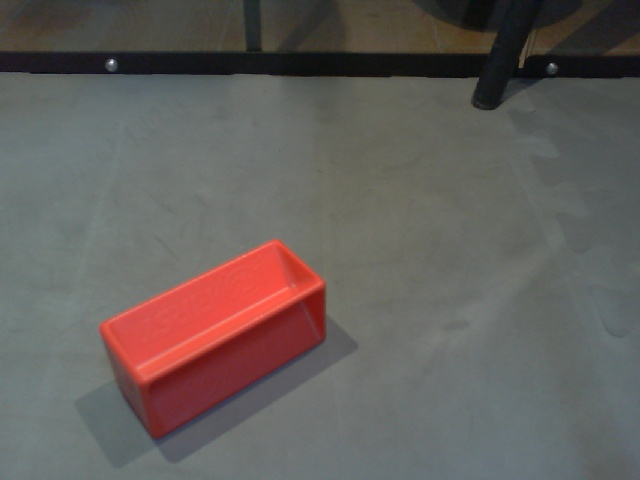RedSample: (97, 235, 330, 440)
